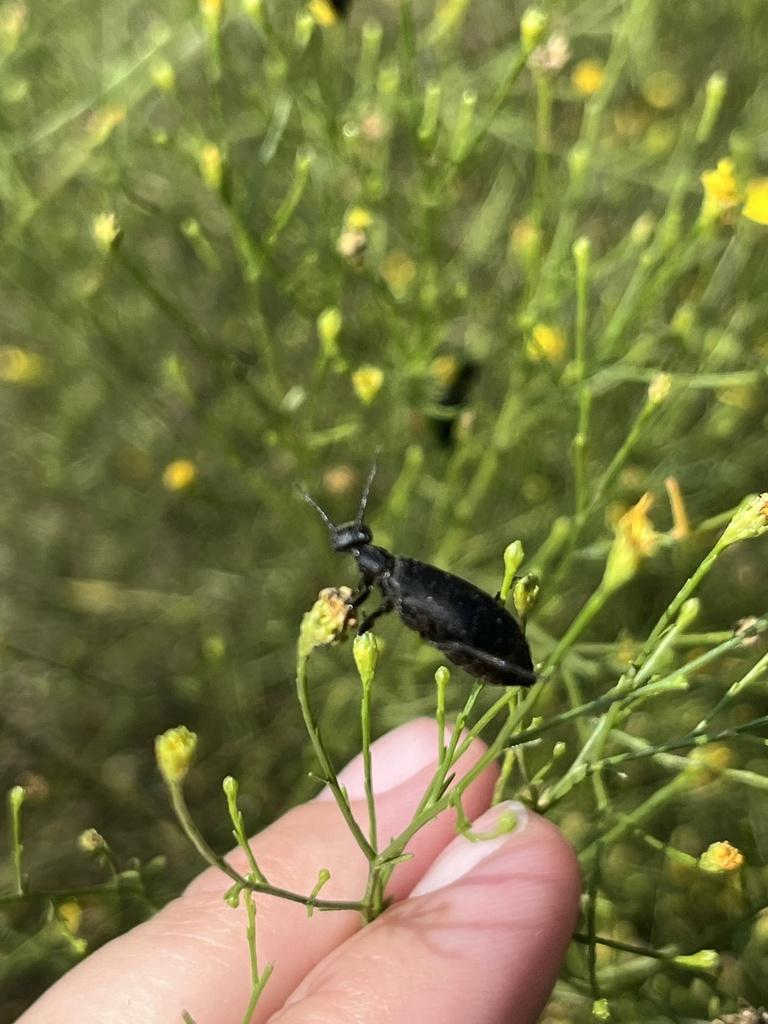blister_beetle: (270, 426, 594, 745)
